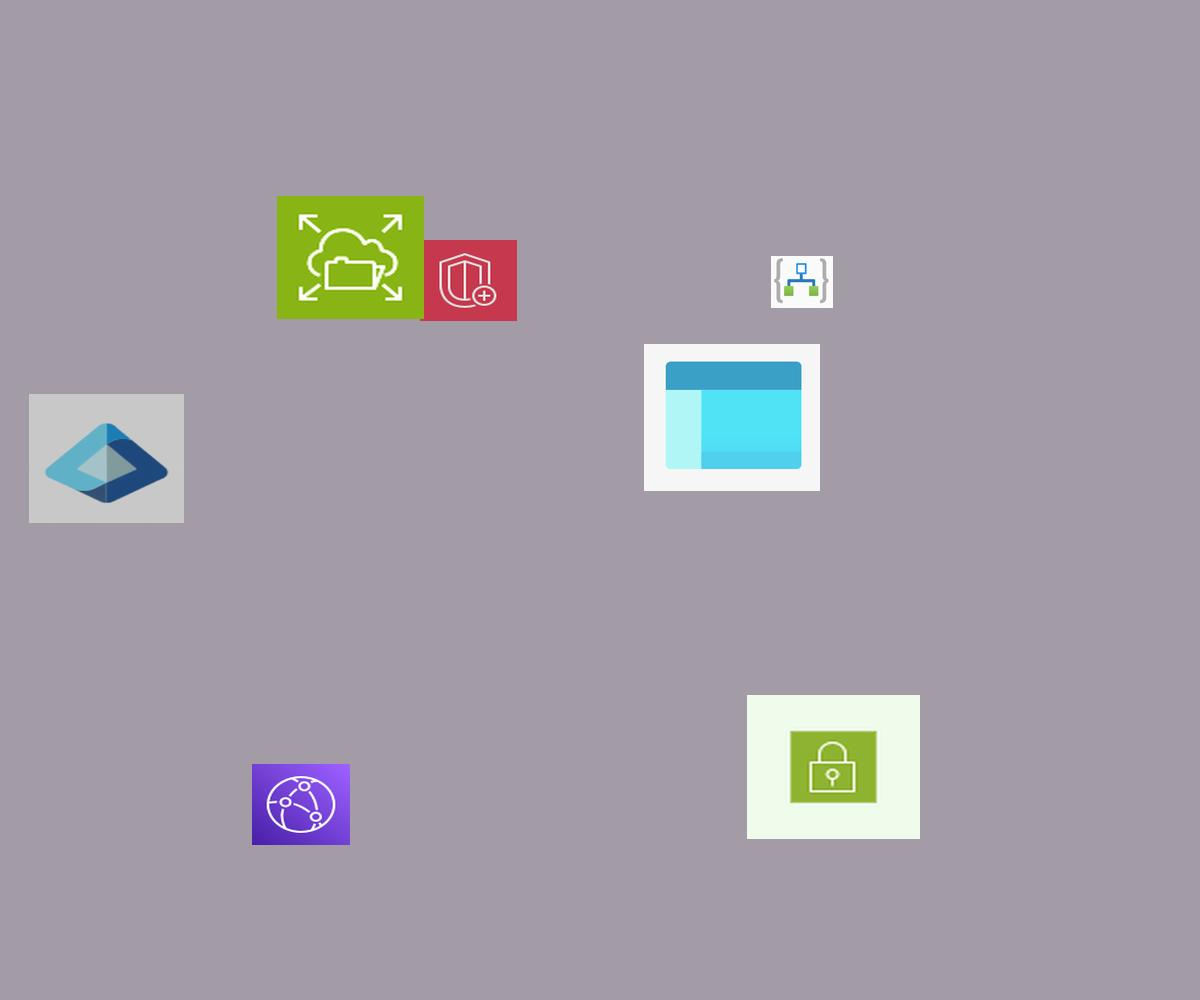AWS-CloudFront: (252, 764, 350, 845)
AWS-EFS: (277, 196, 424, 319)
AWS-Public-subnet: (747, 695, 920, 839)
AWS-Shield: (420, 240, 517, 321)
Azure_integration-204-Logic-Apps: (771, 256, 833, 308)
Azure_management-portal: (644, 344, 820, 491)
Azure_microsoft_entra: (29, 394, 184, 523)
